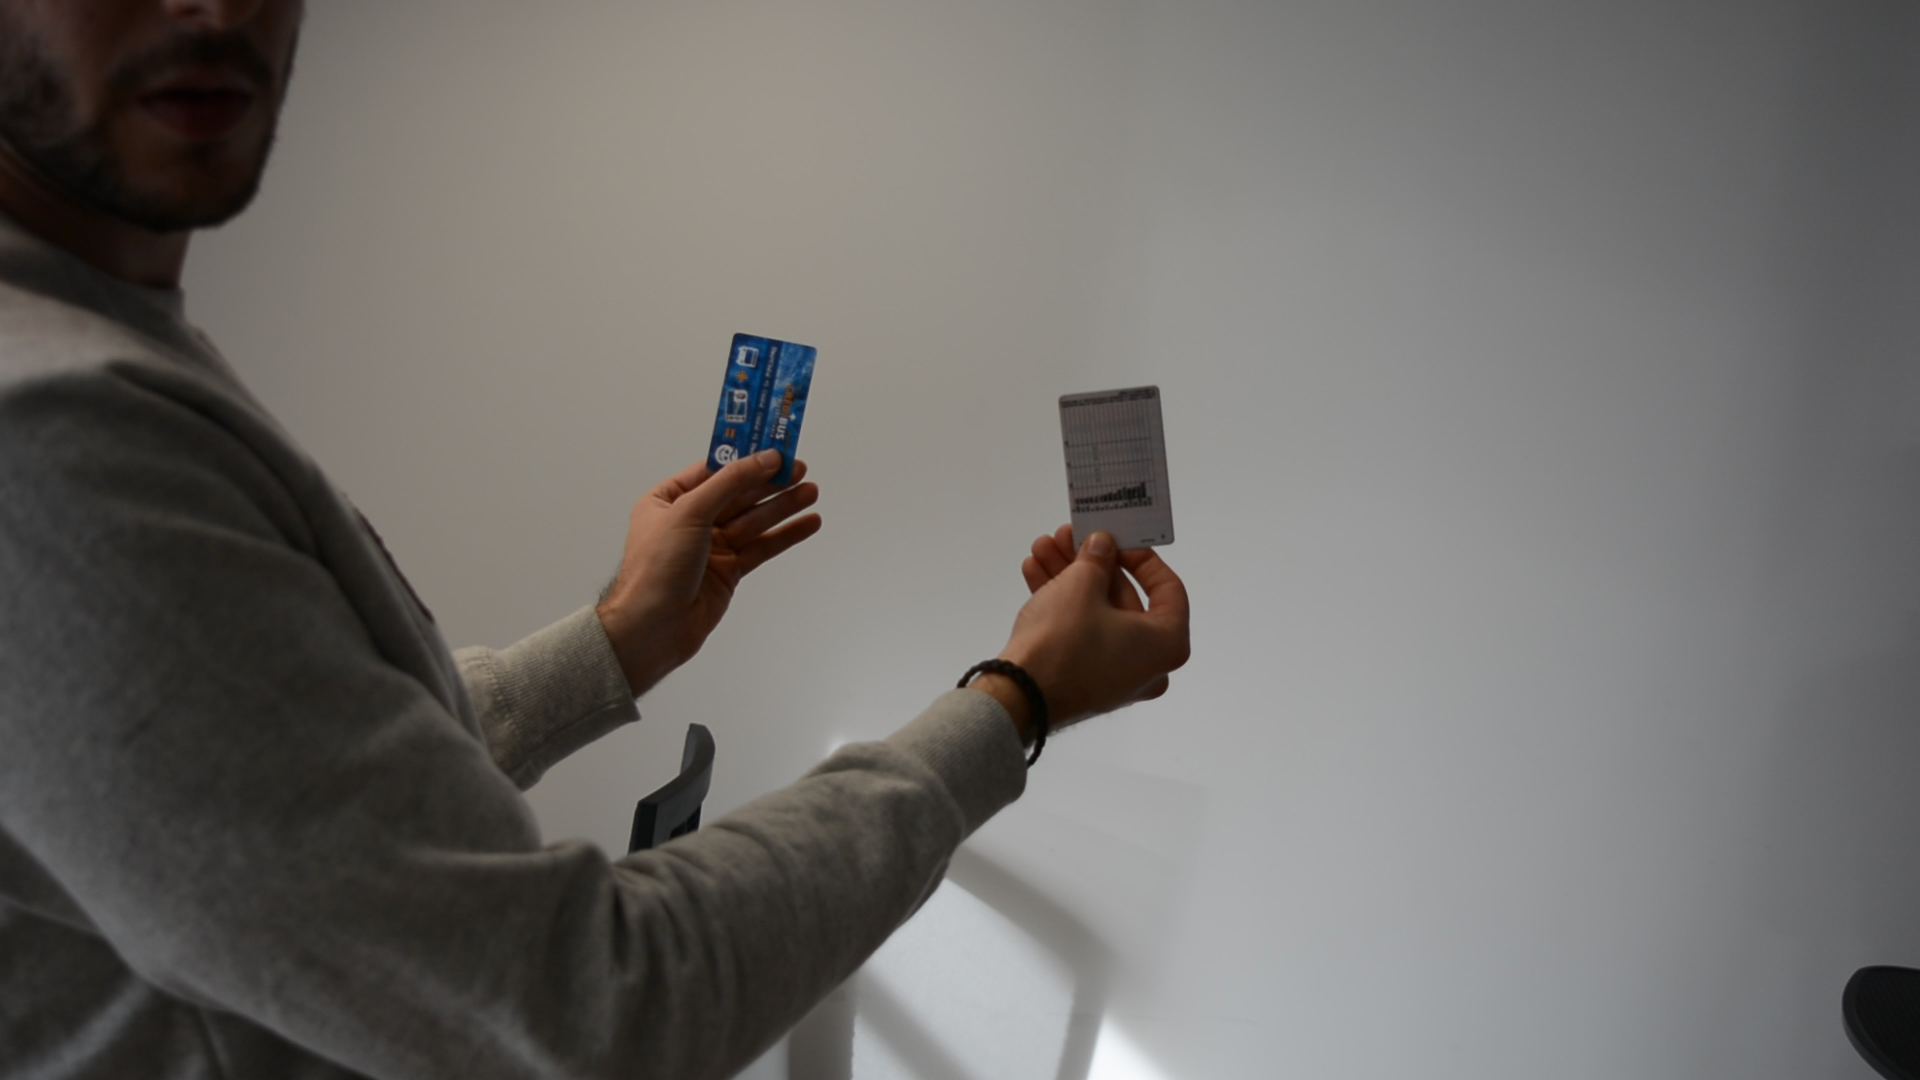tarjeta: (1058, 384, 1176, 559), (704, 331, 818, 488)
